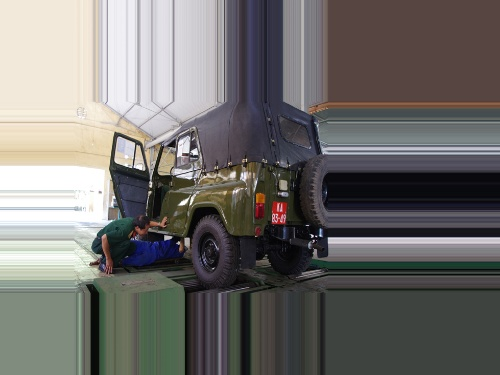plate: (271, 200, 288, 225)
